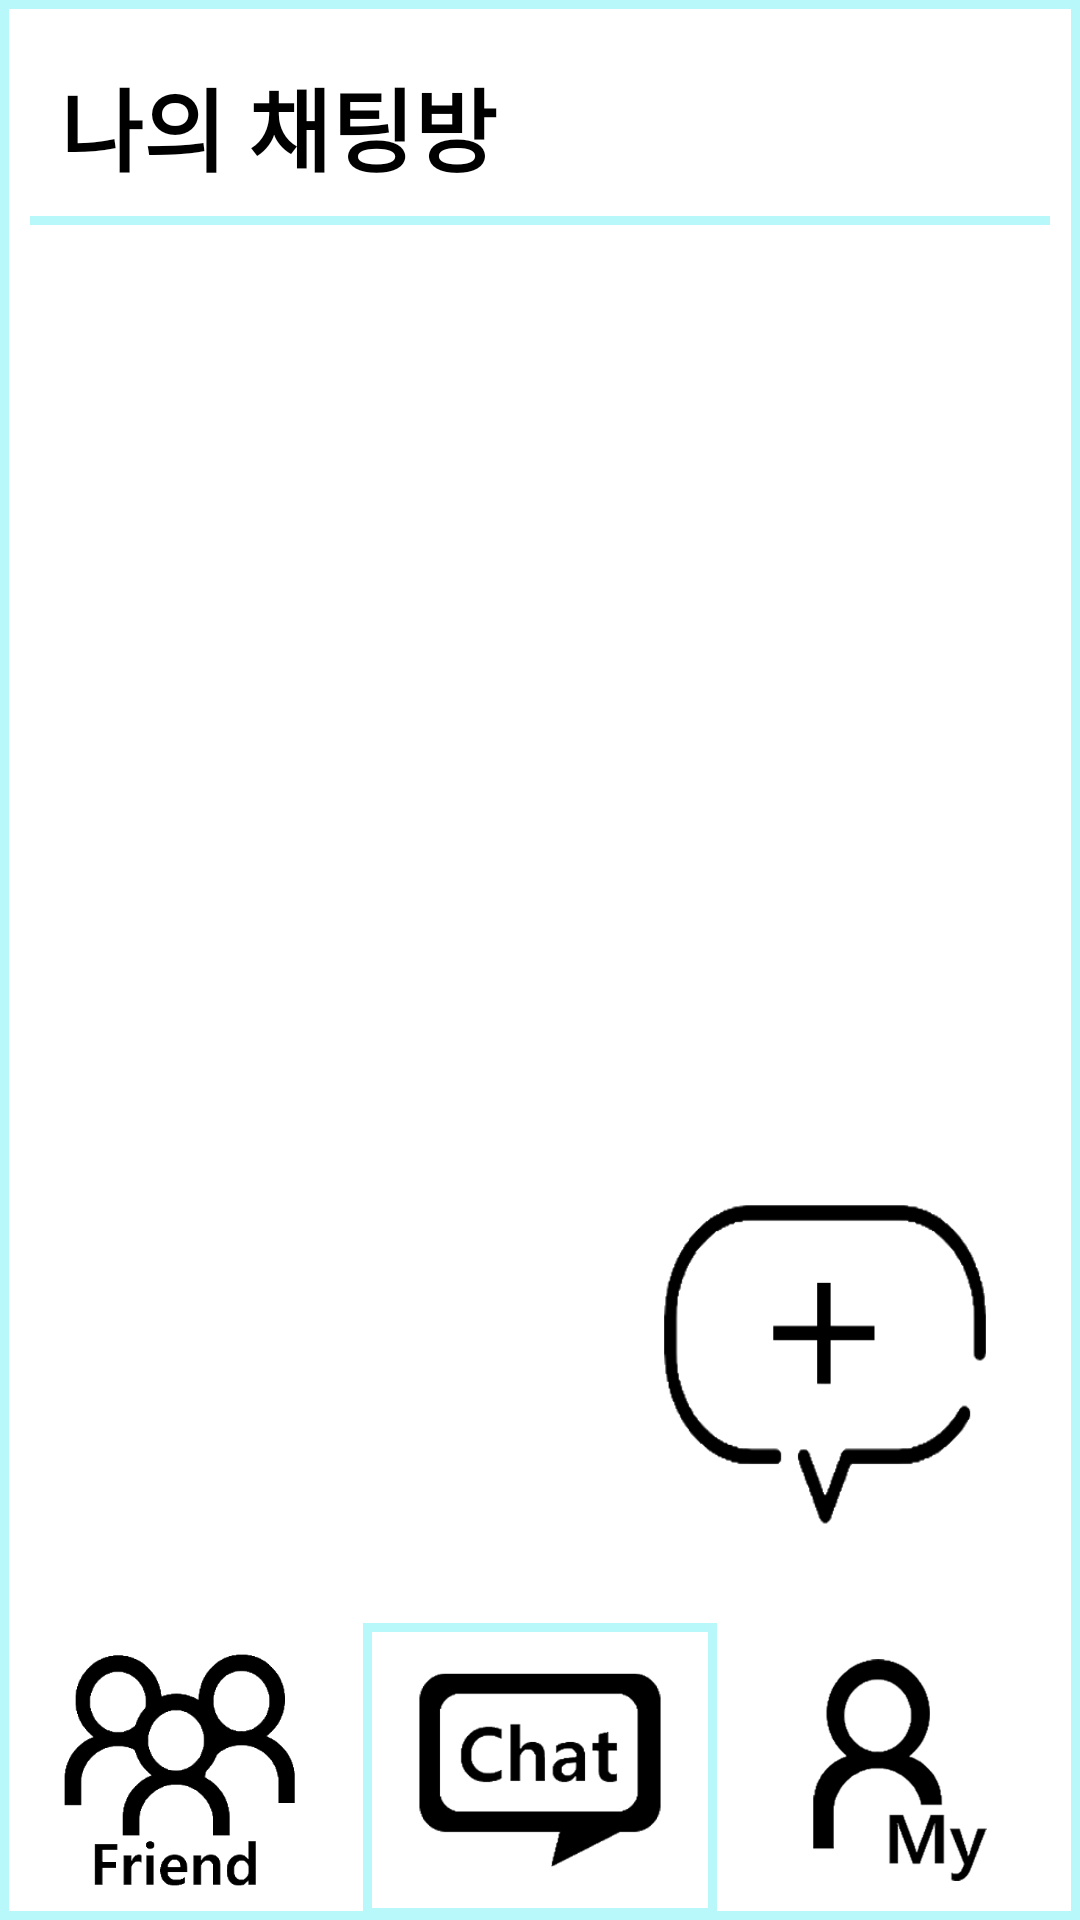

Where to tap for icons on this 1080w x 1920h app screen, as [x,y]:
plus: [825,1364]
